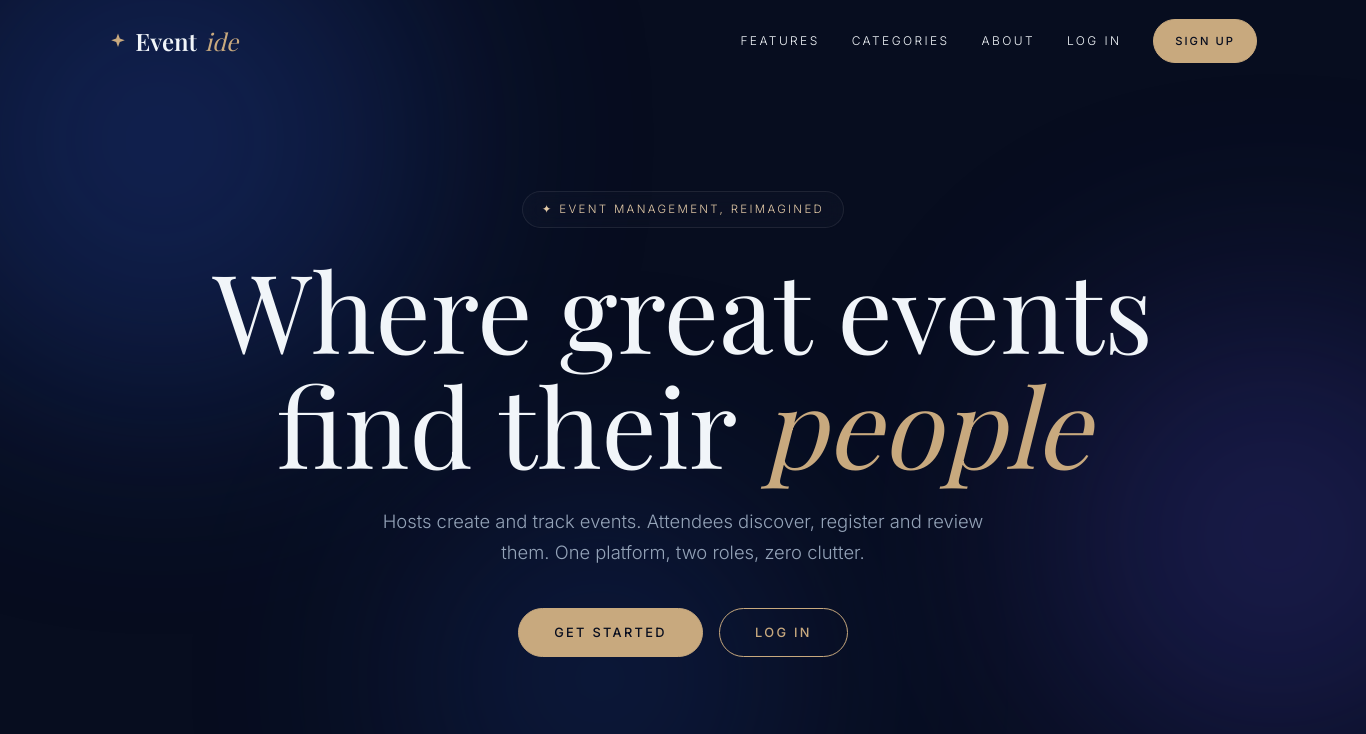
Test: EMS-FR-01 Landing page in the app › "Log in" opens the login page
The image size is (1366, 734).
What coordinates should you click on to do the following:
click the link "Log in" next to "Get started"
I would click on:
 (783, 633)
Its box is [719,608,848,657].
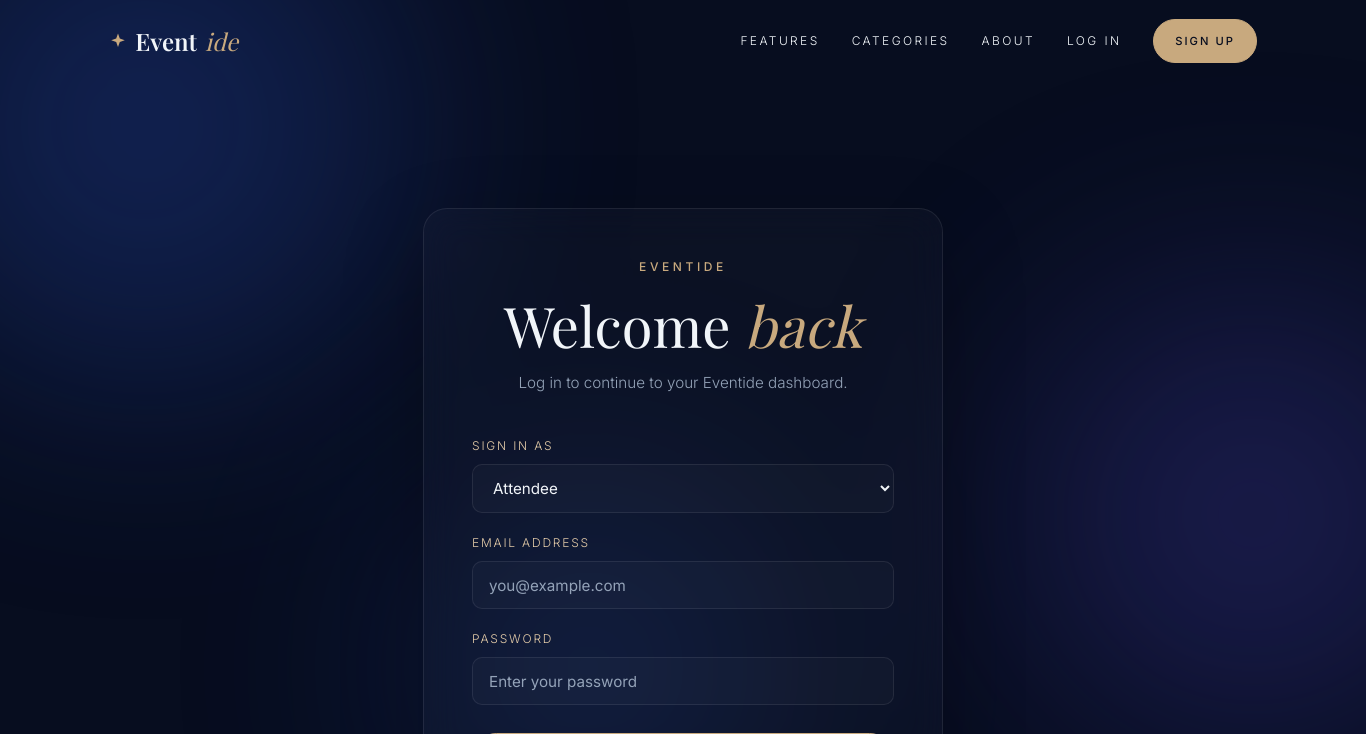
Check: the heading "Welcome back" is shown, box [504,287,862,362]
